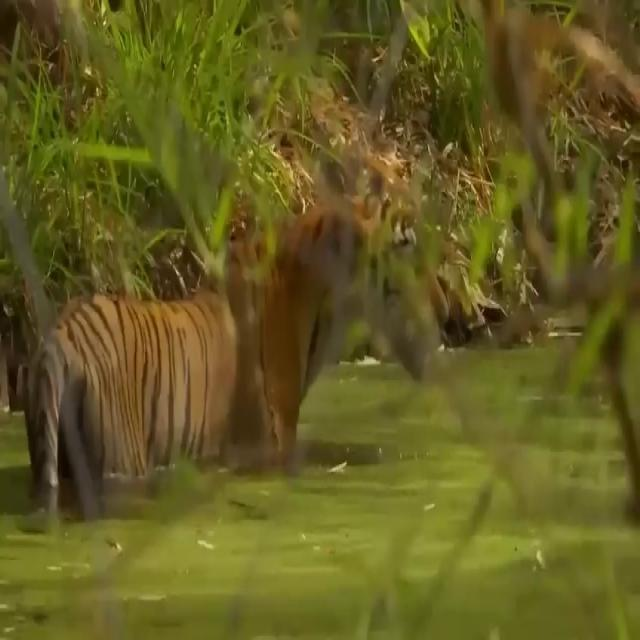tiger: (25, 183, 449, 489)
